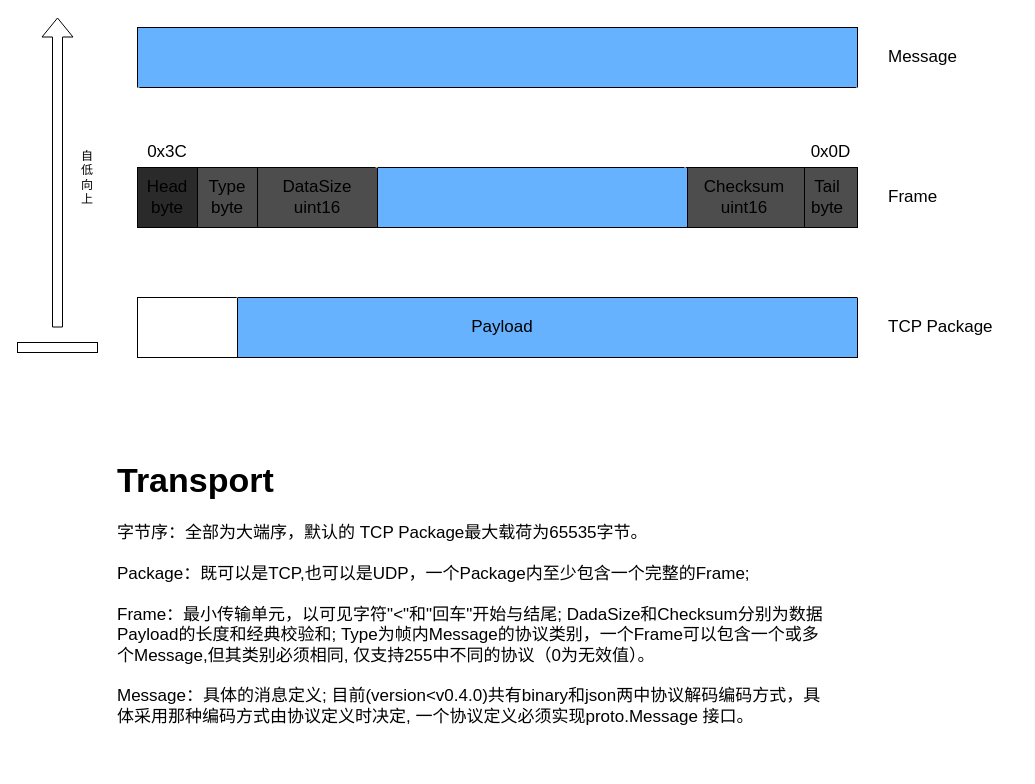
Image size: 1035x784. Some labels were removed from this diagram. Each missing label, with the centre of its shape:
"Data/Payload" belongs at [532,197].
"Head uint16" belongs at [187,327].
